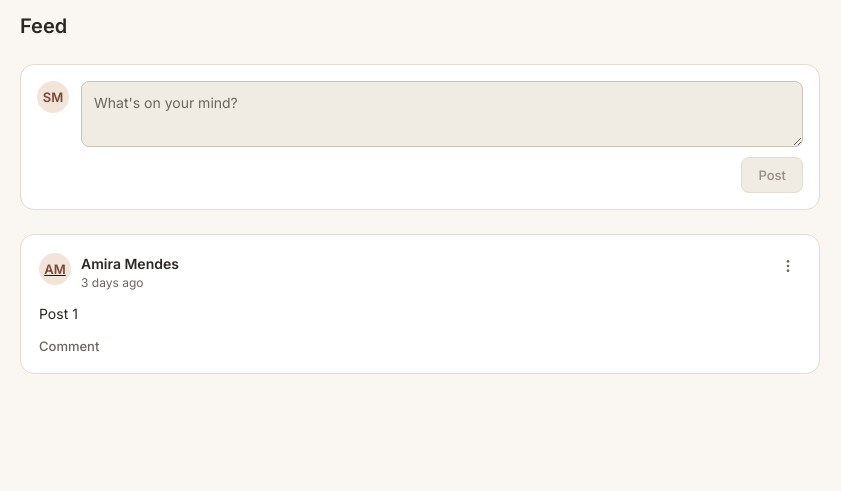
Test: FeedPage › puts a post back with the API message when the delete is refused (403)
Expected: the text "Post 1" is shown, 39,305 -> 78,322
Click the button named "Post actions". click: (788, 266)
box: 775,253 -> 801,279
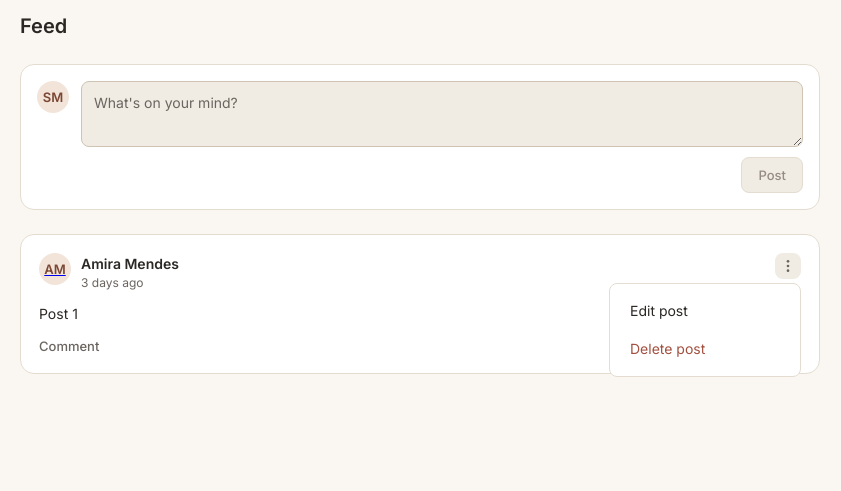
Click the menu item "Delete post". click: (668, 348)
box: 630,340 -> 705,357
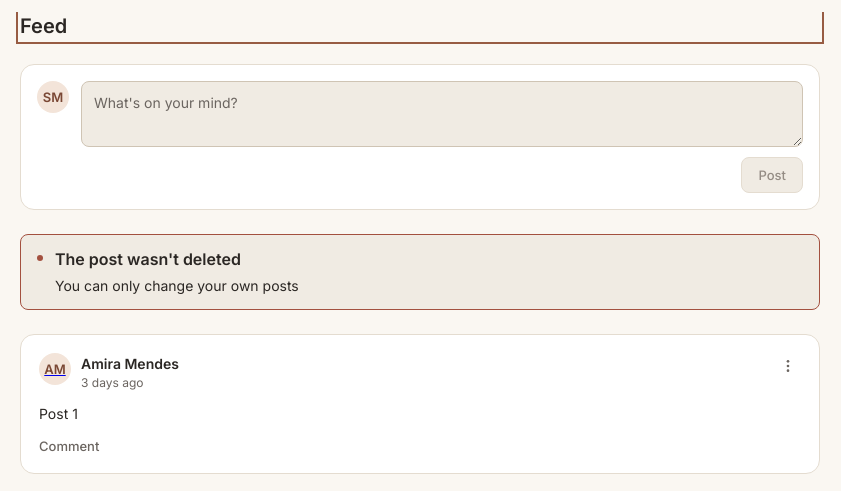
Expected: the text "Post 1" is shown, 39,405 -> 78,422
Now the text "You can only change your own posts" is shown, box 55,277 -> 299,294
Now the text "The post wasn't deleted" is shown, box 55,249 -> 241,269
